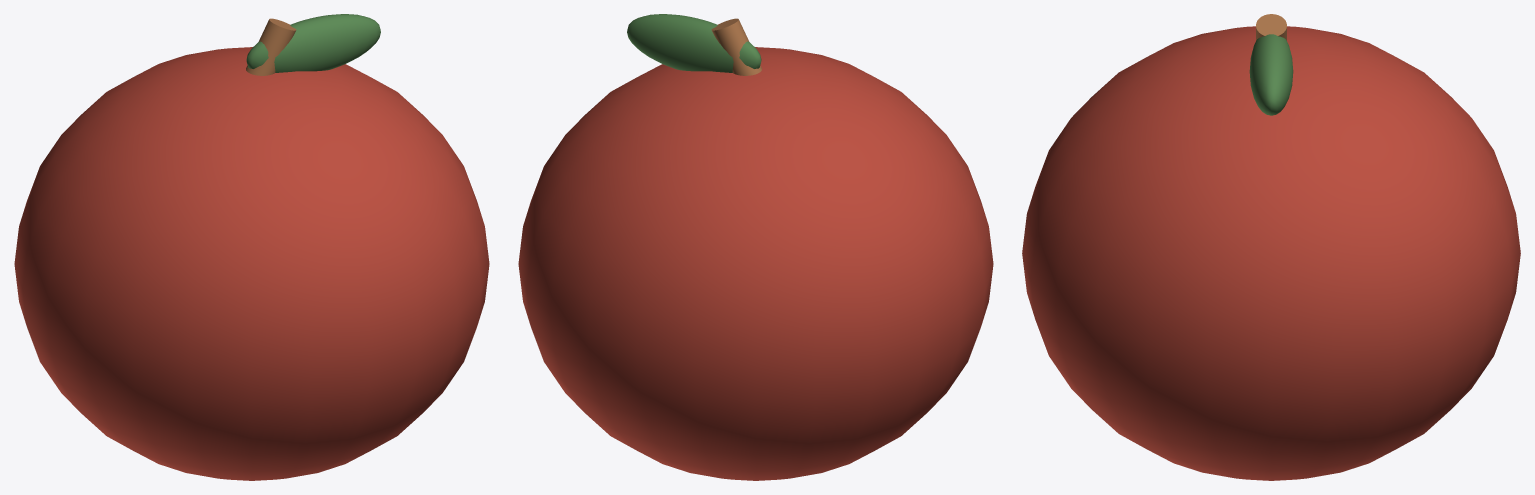
File: wp-pomme.glb
The picture shows the model from 3 angles, left to right: view 1: azimuth 30°, elevation 25°; view 2: azimuth 150°, elevation 25°; view 3: azimuth 270°, elevation 25°; orthographic projection. The views are drawn at different scales.
Parts seen in each view (by area): view 1: wp-pomme; view 2: wp-pomme; view 3: wp-pomme.
Boxes of the visible parts, x1,y1,x2,y2 form: wp-pomme: (14,14,489,480); wp-pomme: (518,14,993,480); wp-pomme: (1022,14,1520,480).
Size of the model in its own units: 0.09 by 0.09 by 0.09.
